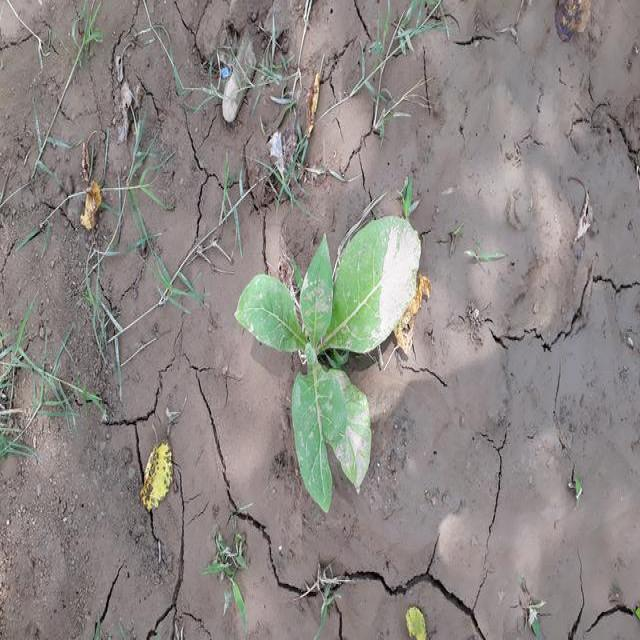crop: (234, 214, 422, 495)
